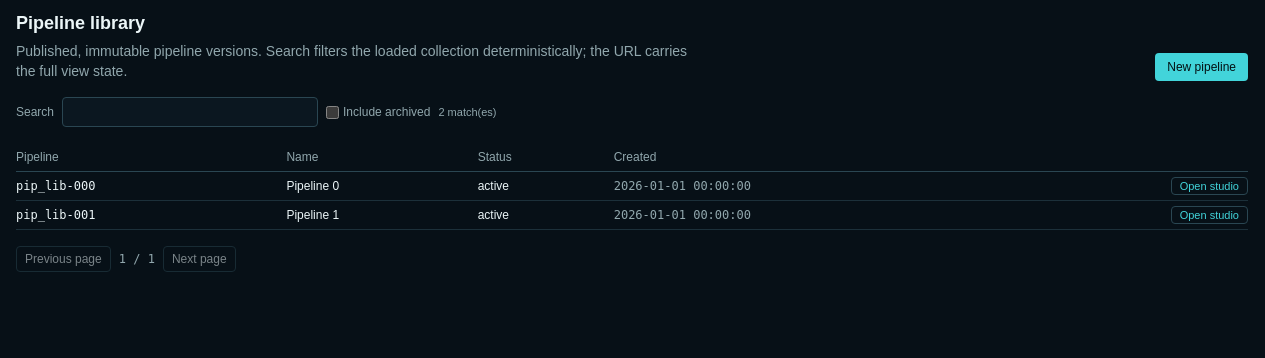
Scenario: pipeline library › renders a deterministic no-results state for a search without matches
The image size is (1265, 358).
Expected: the table named "Pipelines" is shown, [16, 143, 1248, 230]
Type "zzz-no-match" into the search field with test id "library-search" at (190, 112), box [62, 97, 318, 127]
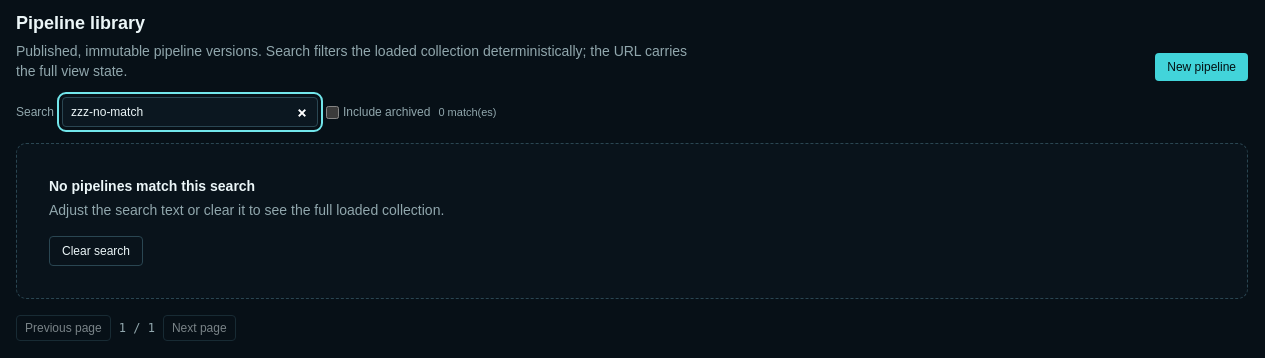
Result: the text "No pipelines match this search" is shown at [49, 178, 255, 194]
# Clearing the search restores the full loaded collection.
Click the button "Clear search" at (96, 251), box [49, 236, 143, 266]
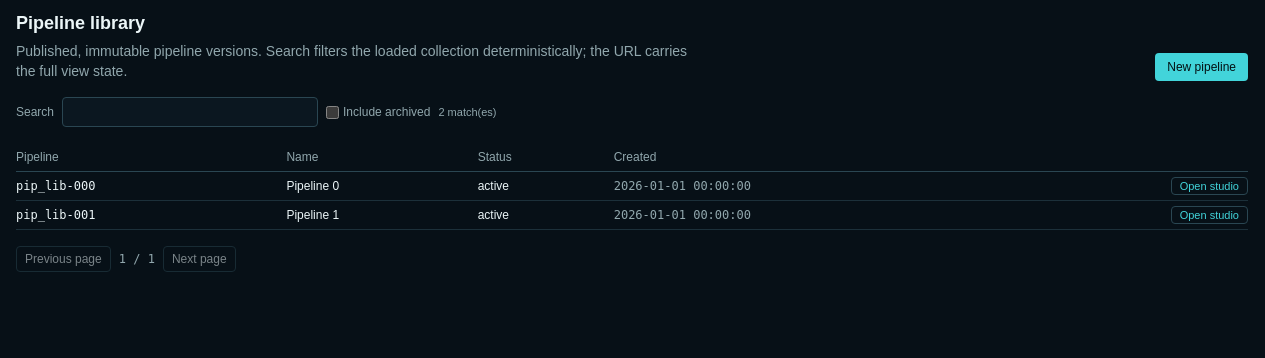
Result: the table named "Pipelines" is shown at [16, 143, 1248, 230]
